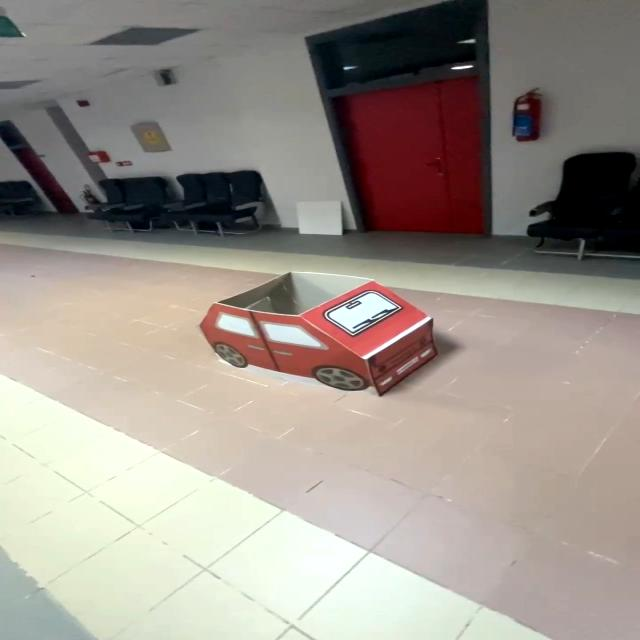red_car: (155, 256, 503, 415)
